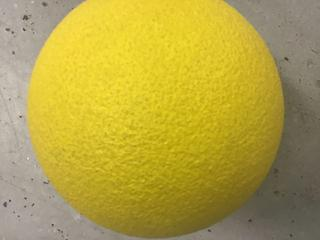power_cell: (23, 1, 294, 236)
